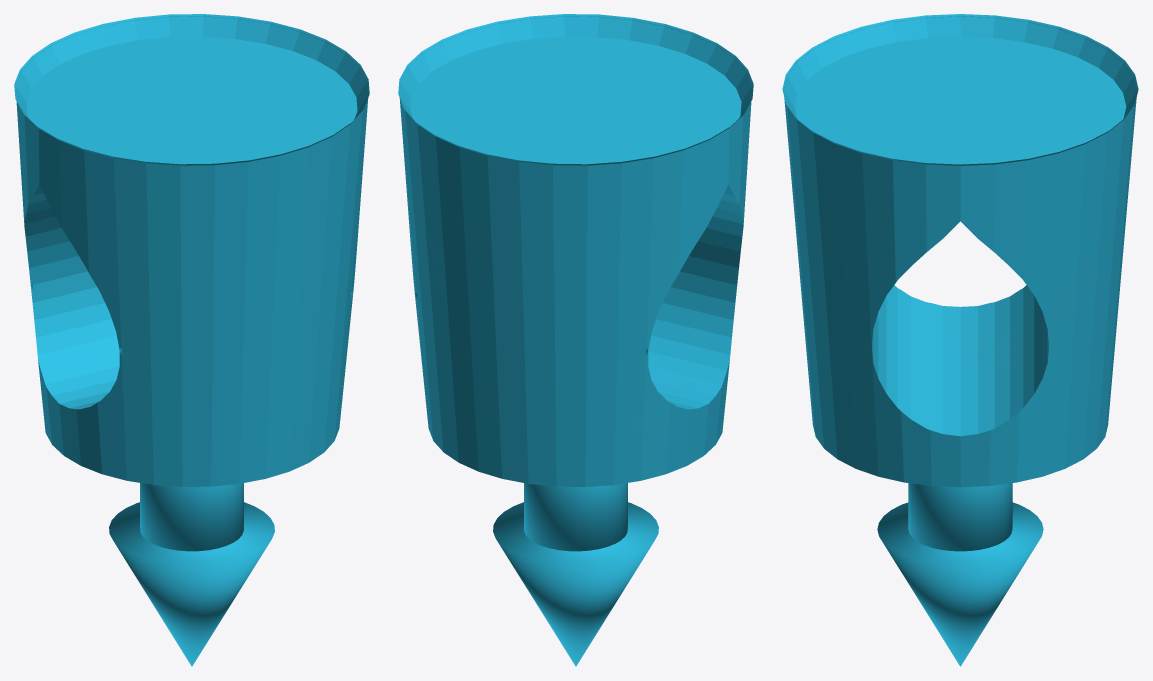
The model's file is 6_goal.glb.
3 views of the same model, side by side, from view 1: azimuth 30°, elevation 25°; view 2: azimuth 150°, elevation 25°; view 3: azimuth 270°, elevation 25° (orthographic).
Parts seen in each view (by area): view 1: Cylinder, Cone; view 2: Cylinder, Cone; view 3: Cylinder, Cone.
Boxes of the visible parts, x1,y1,x2,y2 form: Cylinder: [14, 14, 369, 486]; Cone: [109, 483, 274, 666]; Cylinder: [398, 14, 753, 486]; Cone: [493, 483, 658, 666]; Cylinder: [782, 14, 1138, 487]; Cone: [877, 483, 1043, 666].
Size of the model in its own units: 2.41 by 4.32 by 2.41.
Materials: 1 (1 with a texture image).
